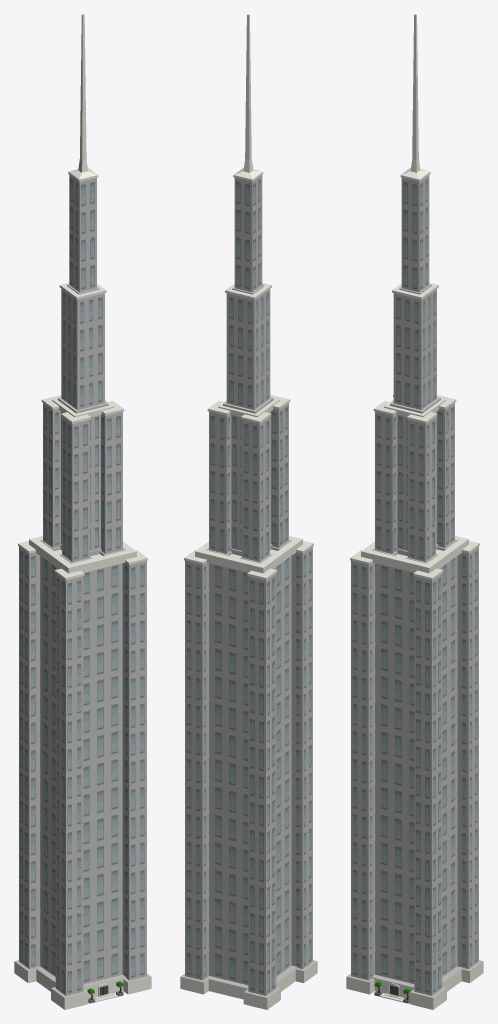
Rendered from Sky Scraper Needle Master.fbx.
3 renders of one model, left to right at view 1: azimuth 30°, elevation 25°; view 2: azimuth 150°, elevation 25°; view 3: azimuth 330°, elevation 25°, orthographic.
Parts seen in each view (by area): view 1: Sky Scraper Needle Master; view 2: Sky Scraper Needle Master; view 3: Sky Scraper Needle Master.
Part boxes in pixels (x1,y1,x2,y2): Sky Scraper Needle Master: [14, 14, 151, 1009]; Sky Scraper Needle Master: [180, 14, 317, 1009]; Sky Scraper Needle Master: [346, 14, 483, 1009].
Bounding box in the file's own units: 7.69 × 81.74 × 7.69.
